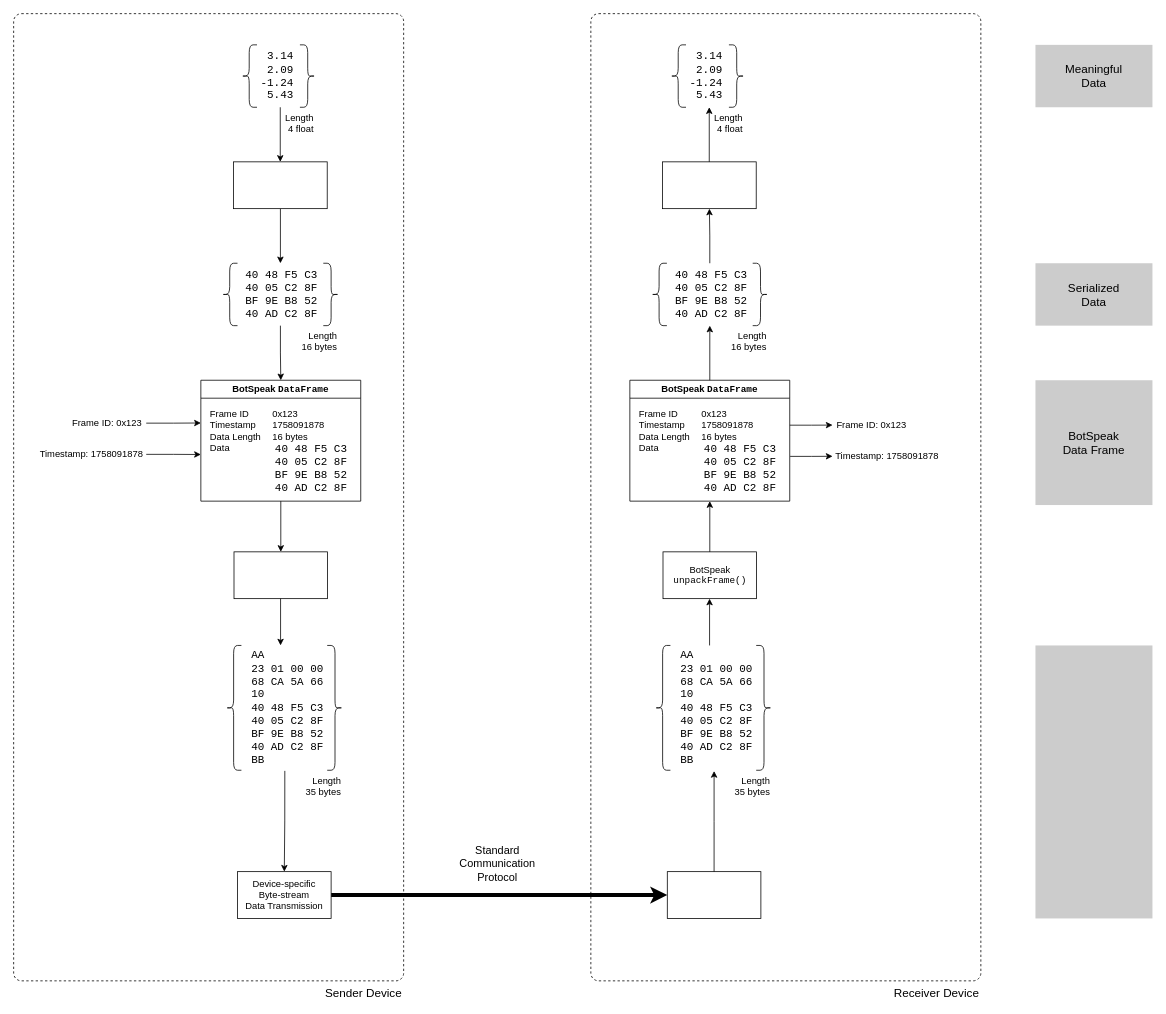
Some shapes in this 1166 by 1014 pixel diagram are drawn without their labels. Each missing label, with the box of its shape:
BotSpeak deserialize(): (662, 161, 756, 209)
BotSpeak packFrame(): (233, 551, 328, 599)
BotSpeak serialize(): (233, 161, 327, 209)
Device-specific Byte-stream Data Reception: (667, 871, 761, 918)
Final Byte-stream: (1035, 645, 1152, 918)
